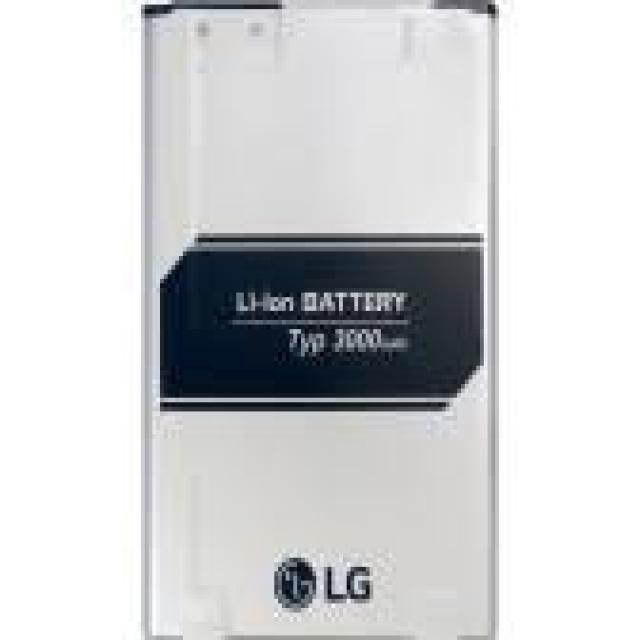battery: (143, 0, 496, 640)
